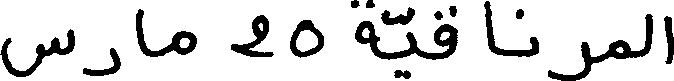X: (0, 24, 70, 80), (232, 10, 269, 61), (548, 37, 589, 80), (290, 15, 320, 62), (435, 1, 457, 64), (87, 43, 120, 80), (356, 0, 370, 51), (177, 26, 198, 59), (407, 2, 415, 80), (664, 11, 673, 68), (610, 35, 625, 63), (643, 9, 651, 60), (486, 0, 493, 57), (137, 4, 143, 58), (530, 32, 537, 60)
